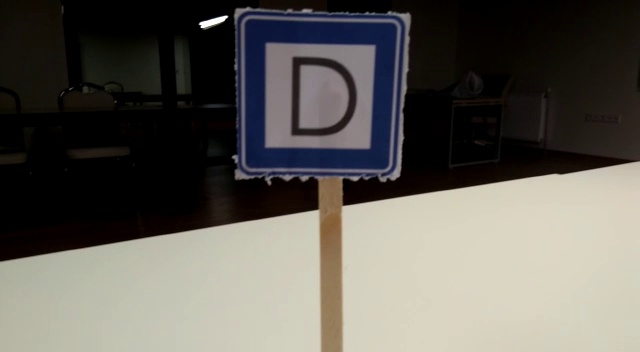durak: (235, 12, 407, 180)
